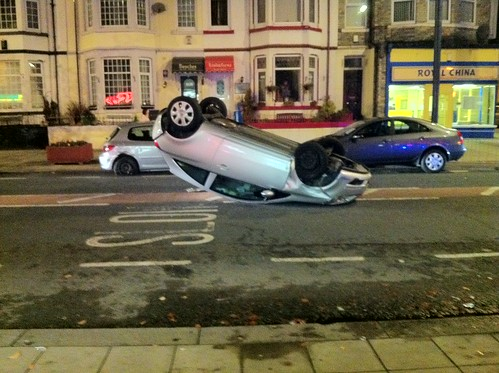building: (1, 1, 333, 133), (342, 1, 499, 124)
car: (141, 104, 370, 213), (323, 114, 456, 172)
street: (5, 173, 499, 312)
